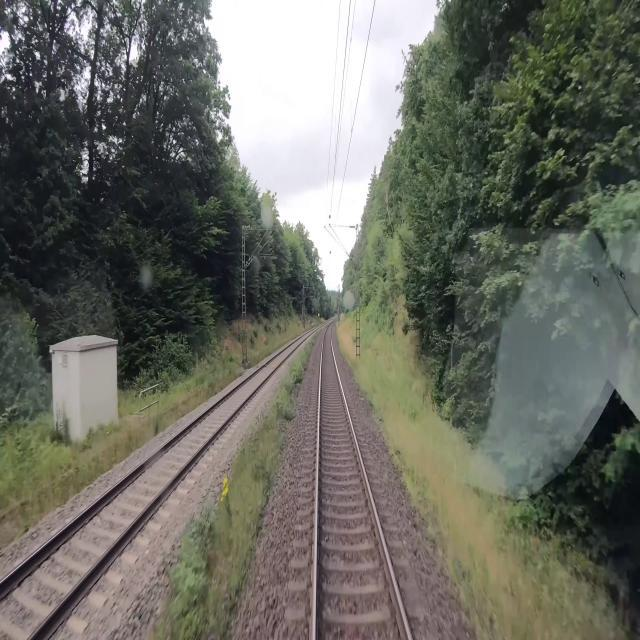Plant: (150, 336, 318, 639)
